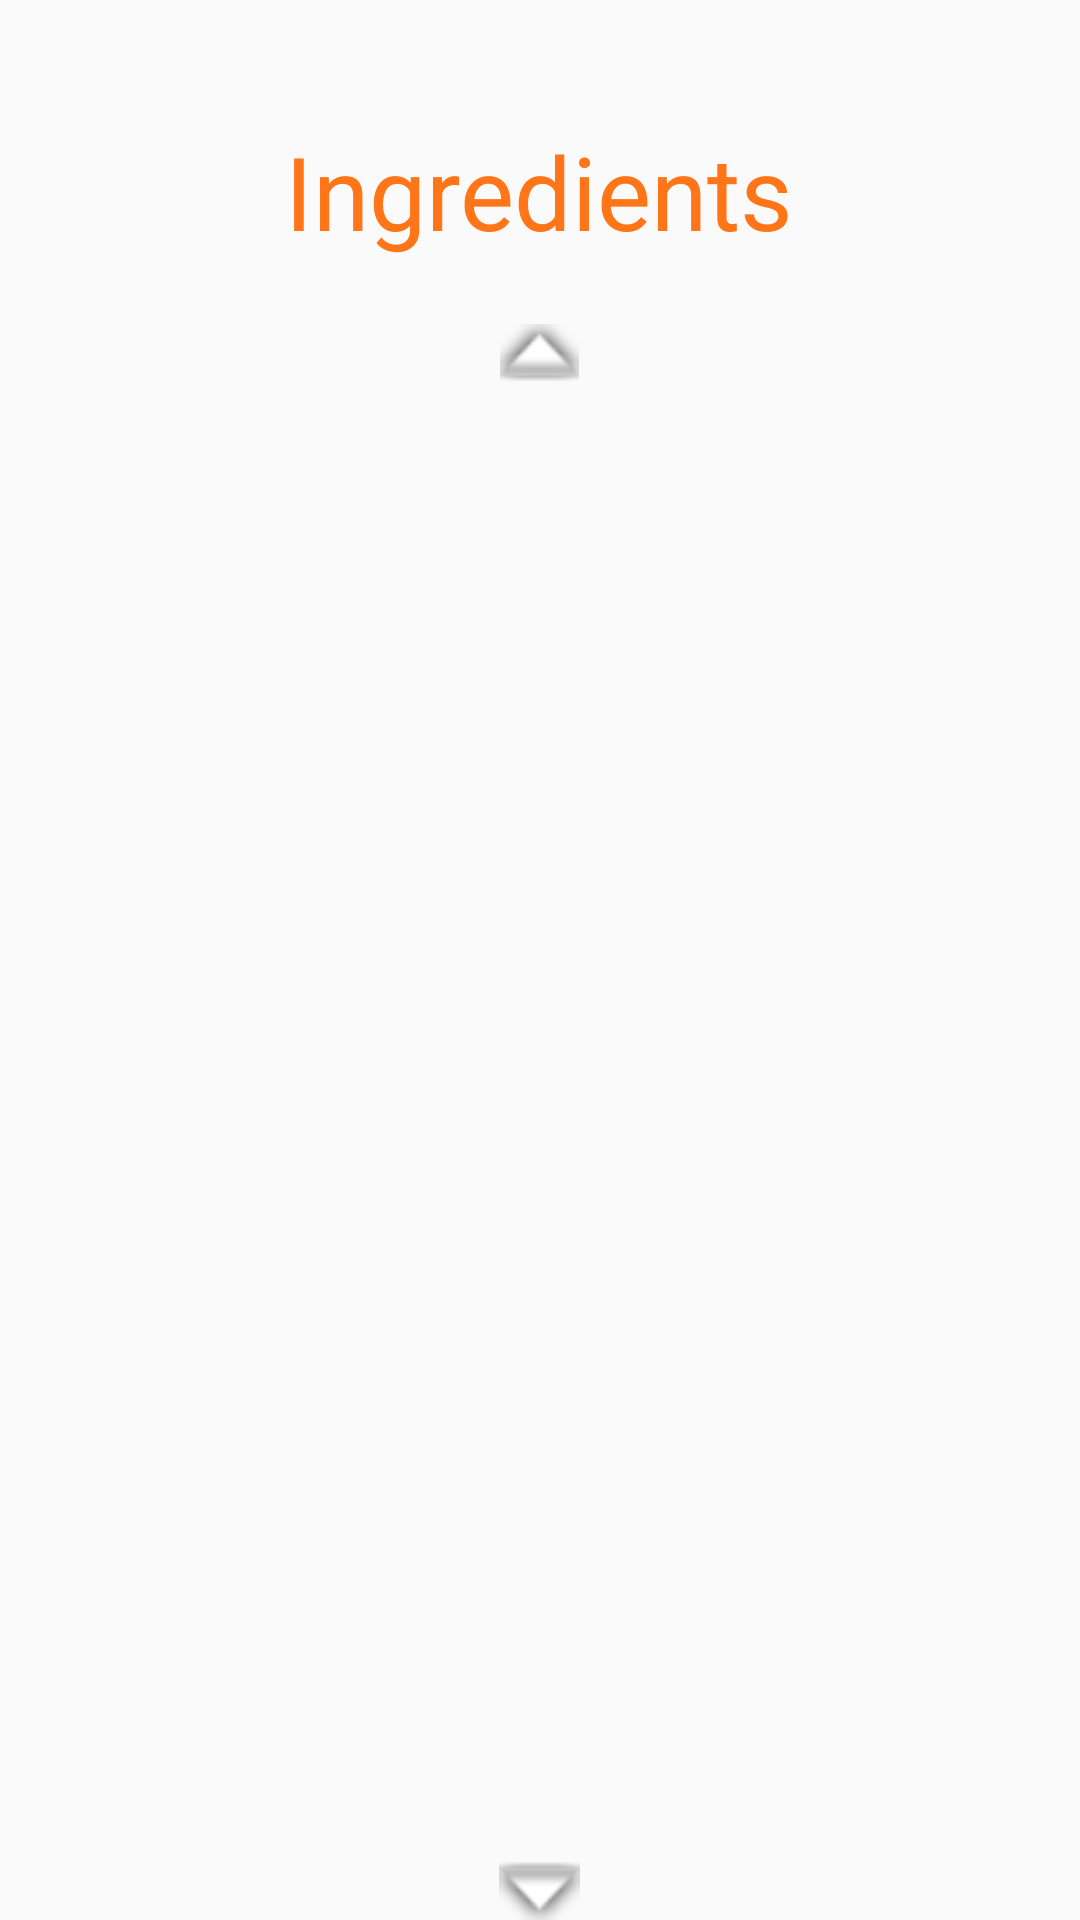

Named icons in this screenshot (1080 × 1920) and their centers, (x=x, y=y):
arrow down float: (x=539, y=1890)
arrow up float: (x=539, y=353)
